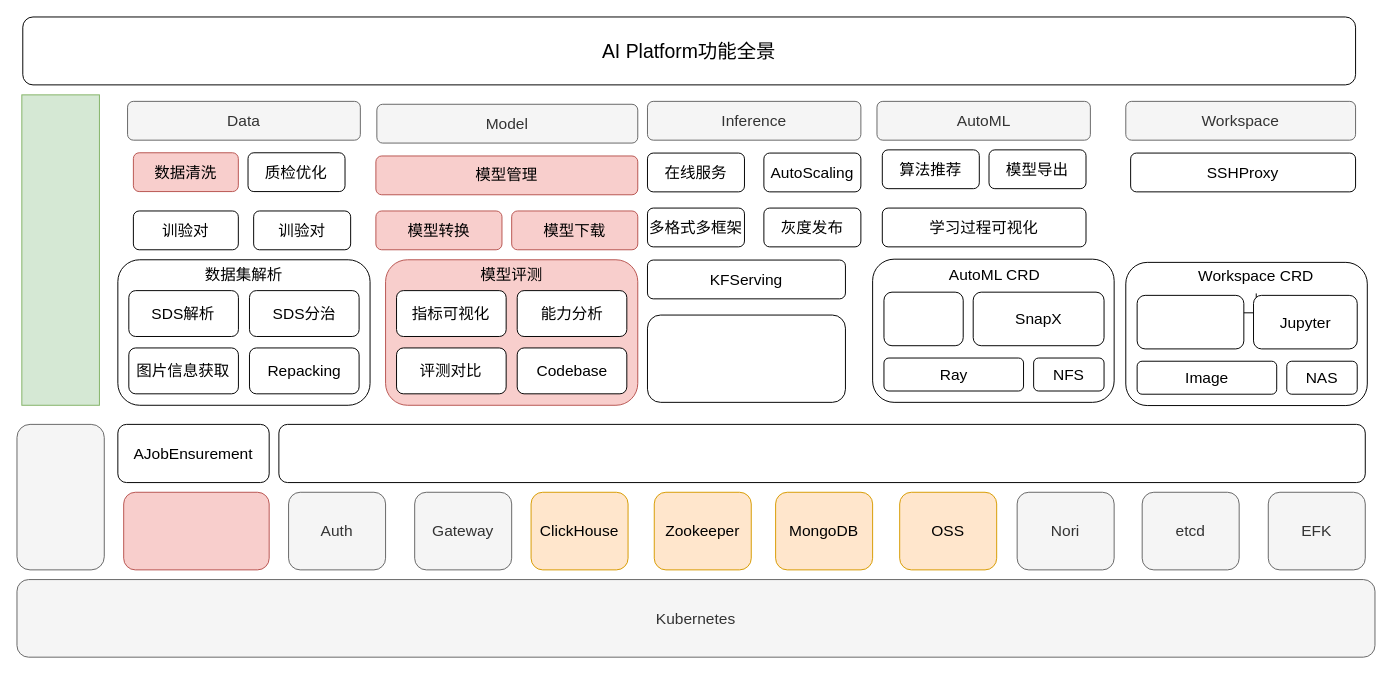
Image size: 1392x674. Some labels were removed from this diagram. The shapes that lost their labels are listed below. From the top down, each one's box as (x1, y1, x2, y2) in pixels, then its label:
(21, 94, 99, 405): Brain++ AI Platform
(883, 291, 963, 346): Agent
(1136, 294, 1244, 349): VSCode
(647, 314, 845, 402): Istio Knative
(278, 423, 1365, 483): Service Wrapper
(16, 423, 104, 570): 基础能力层
(123, 491, 269, 570): AJob
